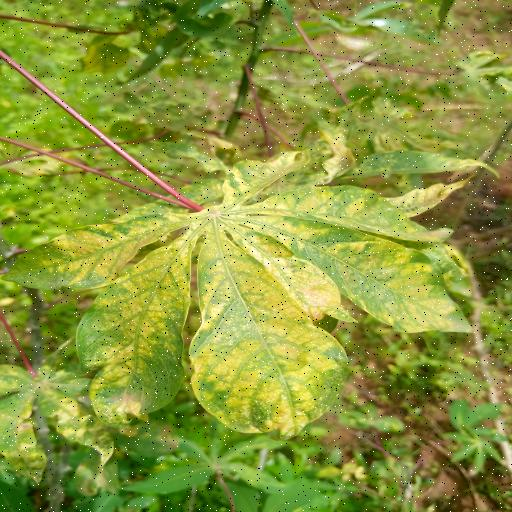Cassava_Mosaic: (5, 149, 481, 444), (0, 355, 141, 485)
